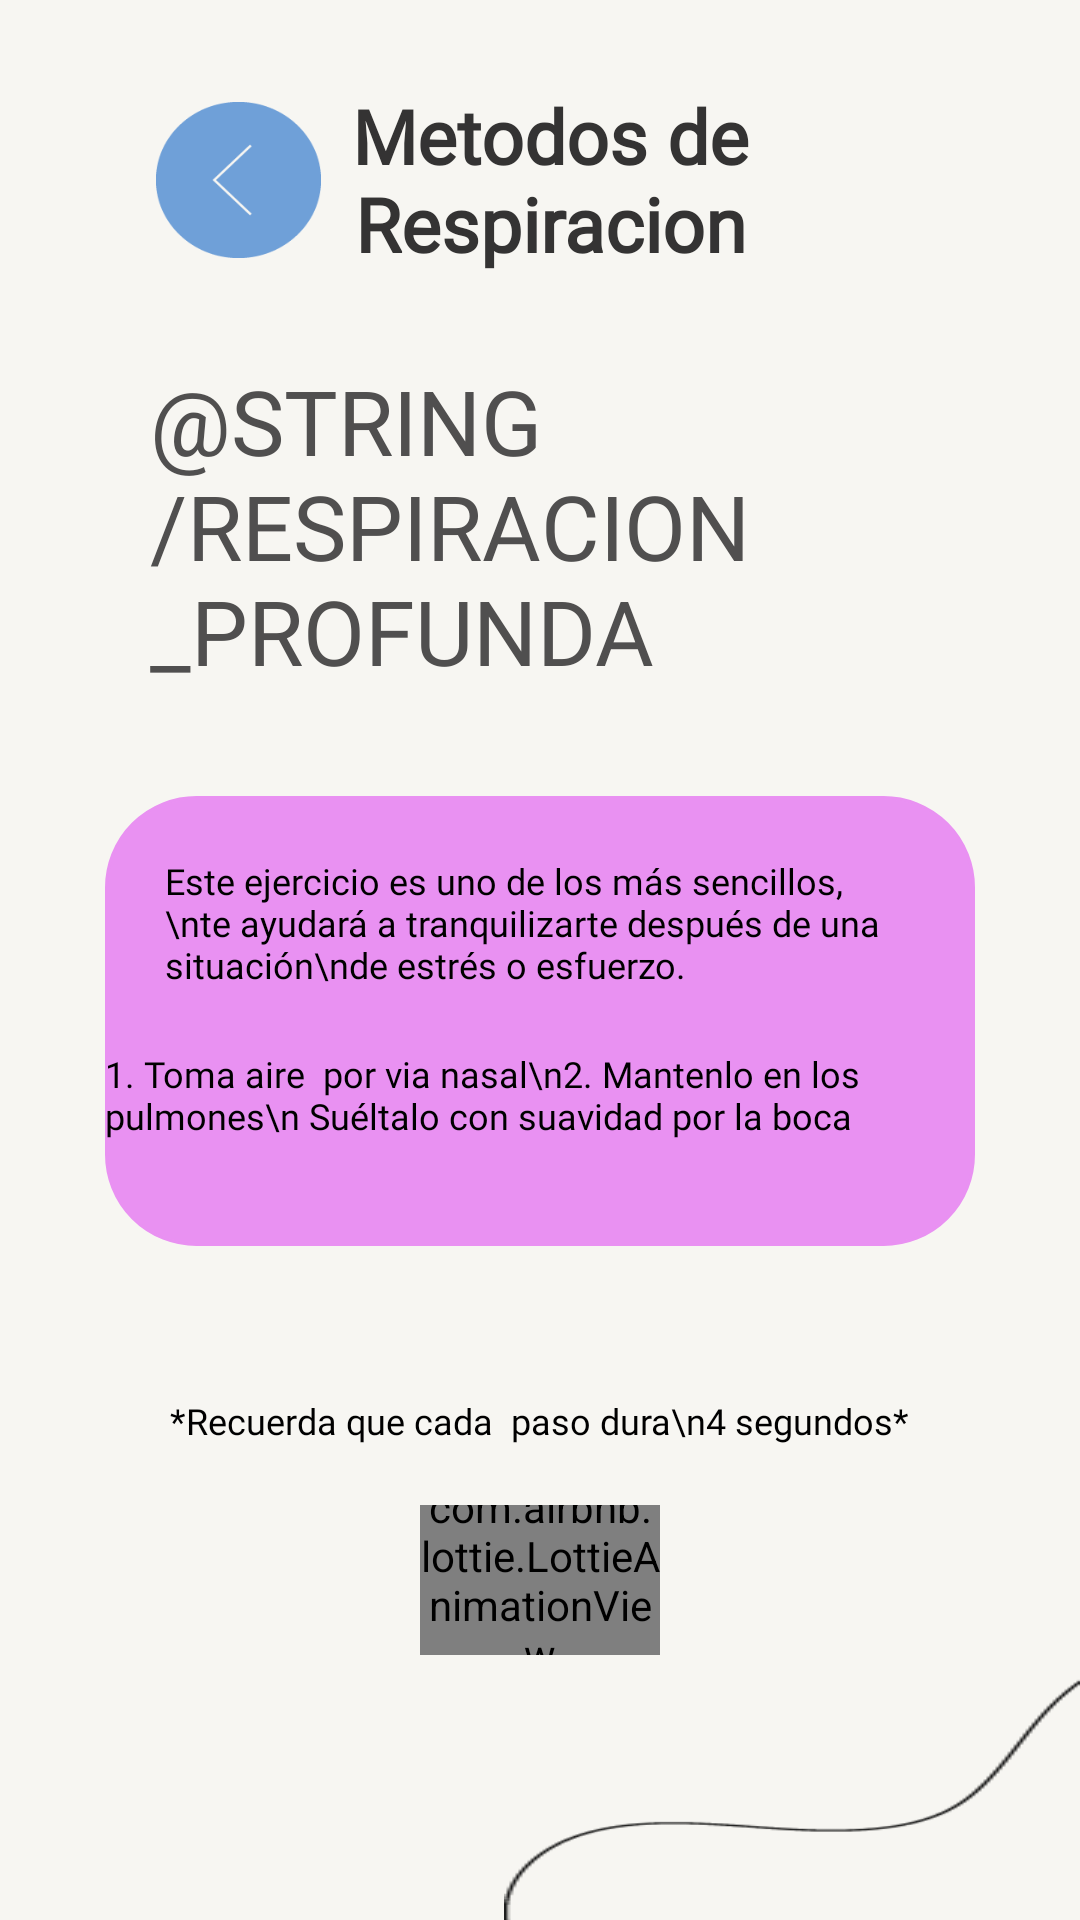

Where to tap for icons on this 1080 × 1920 app screen, as [x,y]:
regresar xxxdpi: [238,180]
